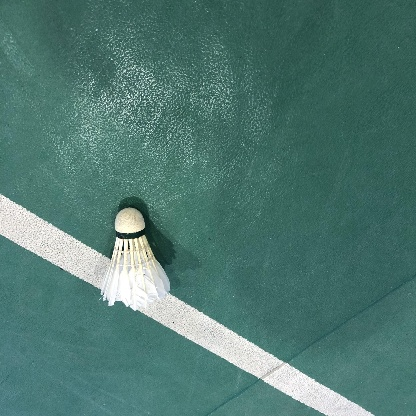ball_single: (100, 207, 170, 311)
